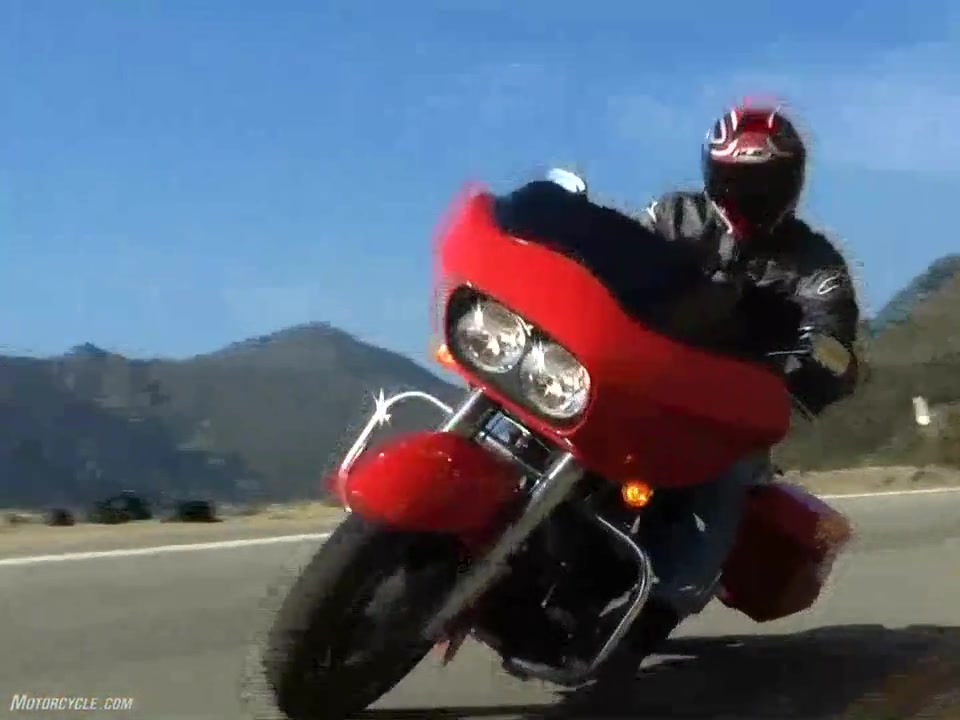motorbike: (263, 168, 854, 720)
